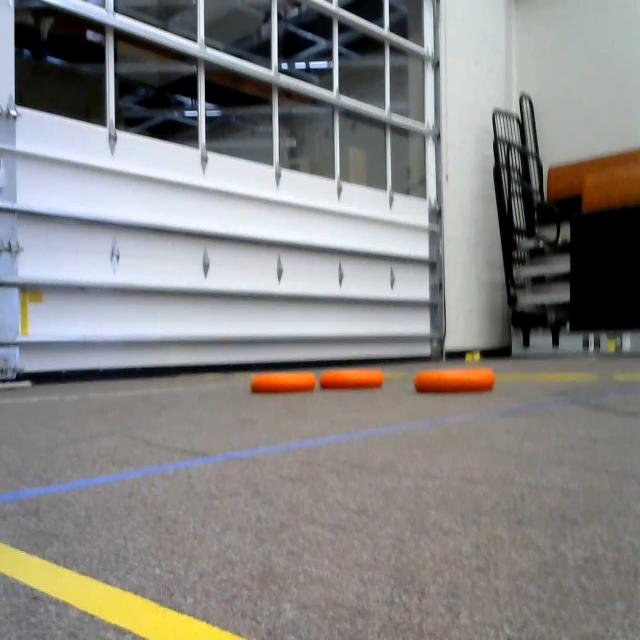note: (408, 354, 498, 406), (316, 357, 397, 398), (250, 360, 318, 398)
